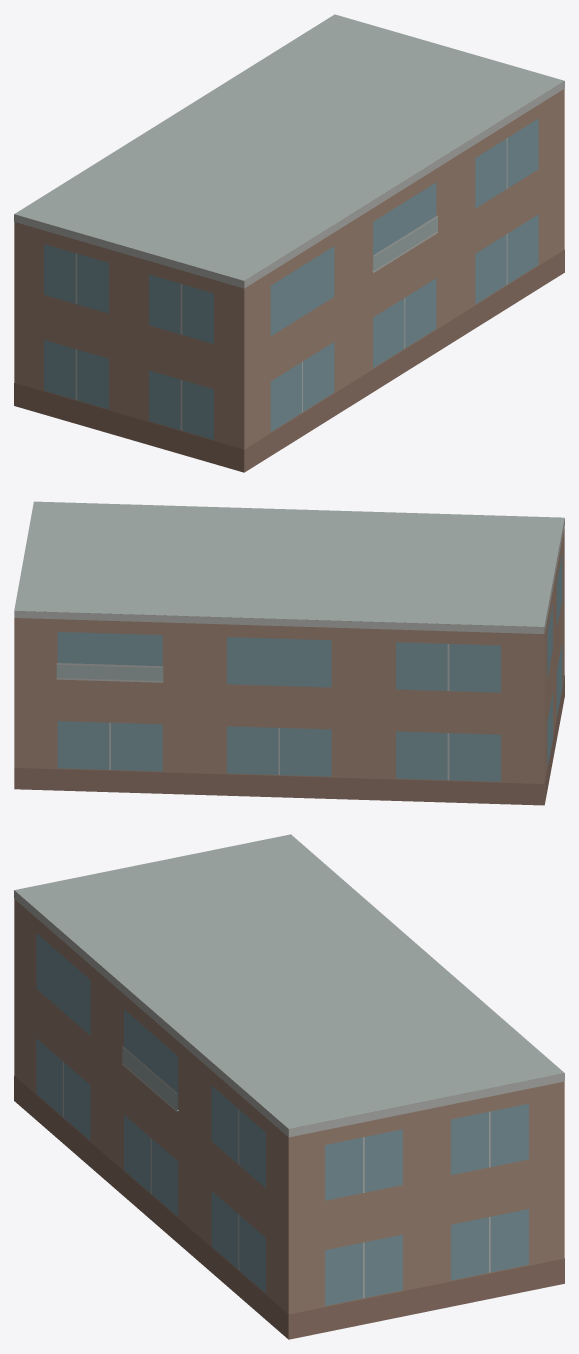
Rendered from survey-upis-32704797.glb.
The picture shows the model from 3 angles, top to bottom: view 1: azimuth 30°, elevation 25°; view 2: azimuth 150°, elevation 25°; view 3: azimuth 270°, elevation 25°; orthographic projection. The views are drawn at different scales.
Visible parts, largest first — view 1: survey-upis-32704797.tmp; view 2: survey-upis-32704797.tmp; view 3: survey-upis-32704797.tmp.
Part boxes in pixels (x1,y1,x2,y2): survey-upis-32704797.tmp: (14,14,564,472); survey-upis-32704797.tmp: (14,501,564,805); survey-upis-32704797.tmp: (14,834,564,1339).
Size of the model in its own units: 18.32 by 6.1 by 14.46.
